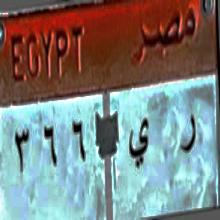3: (11, 119, 33, 181)
6: (70, 110, 89, 170), (41, 117, 60, 168)
raa: (176, 103, 197, 171)
yaa: (126, 116, 152, 173)
